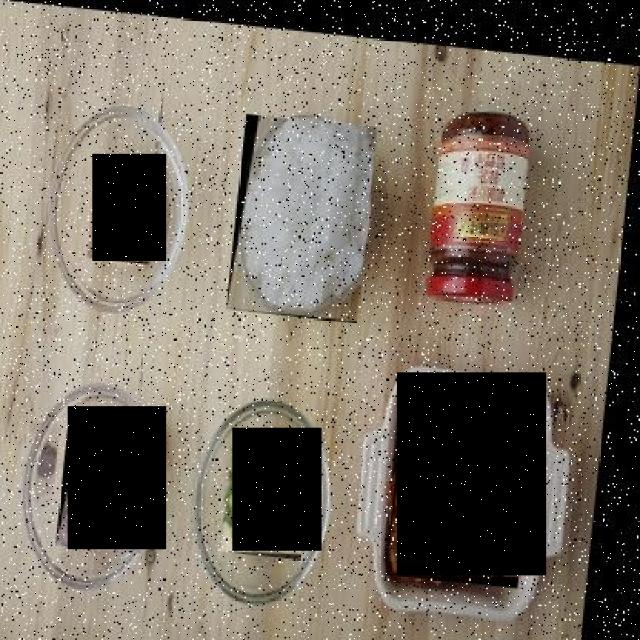Egg: (92, 154, 166, 260)
Onion_Leaves: (233, 427, 322, 551)
Pork: (68, 406, 166, 549)
kimchi: (397, 373, 546, 576)
